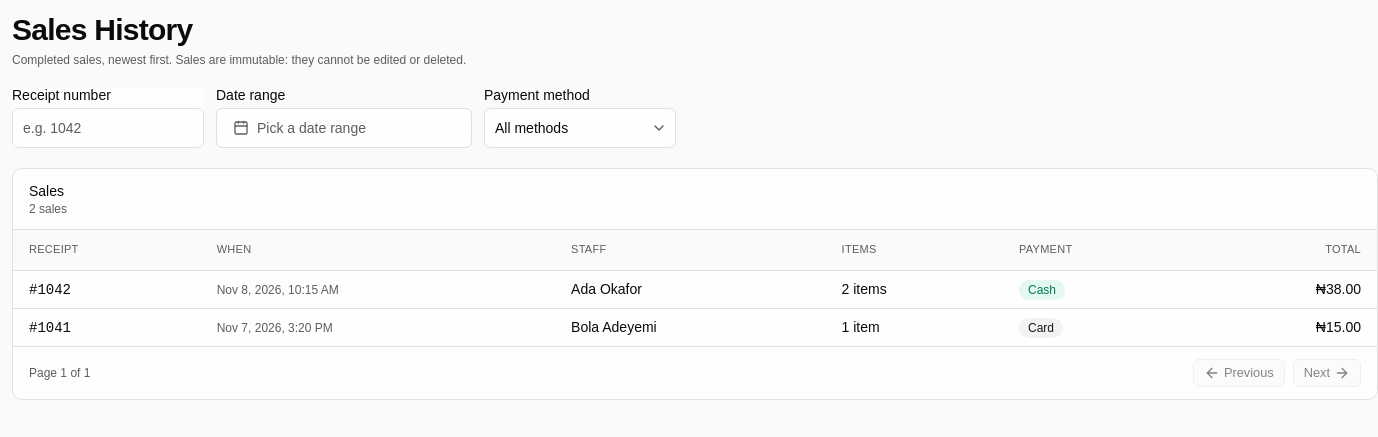
Scenario: SalesHistoryPage › debounces the receipt number and returns to page one
Expected: the text "2 sales" is shown, [29, 201, 67, 217]
Type "1042" into the search field labelled "Receipt number" at (108, 128), box [13, 108, 203, 148]
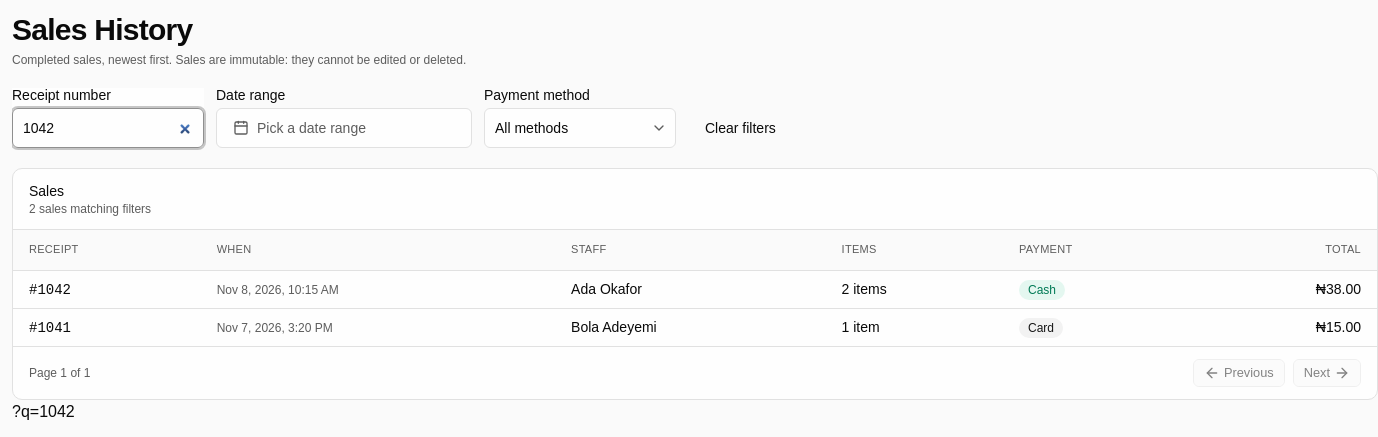
Now the text with test id "location-search" shows "q=1042", box [12, 402, 75, 420]
